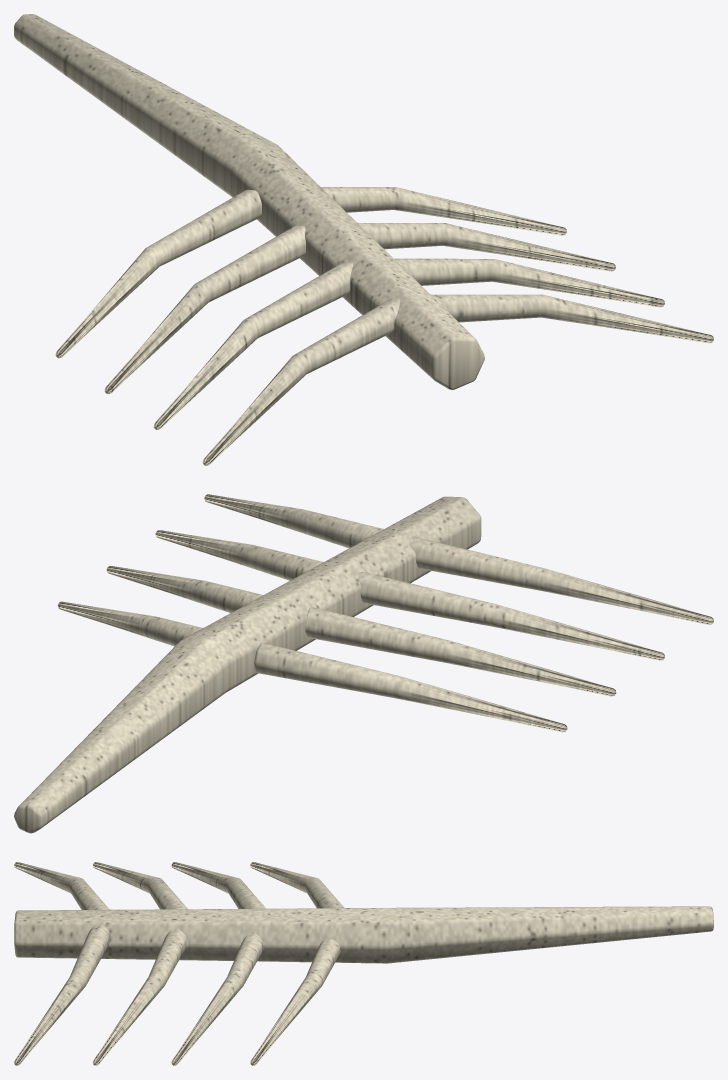
File: food-11-residue.glb
3 views of the same model, one above another, from view 1: azimuth 30°, elevation 25°; view 2: azimuth 150°, elevation 25°; view 3: azimuth 270°, elevation 25° (orthographic). The views are drawn at different scales.
Visible parts, largest first — view 1: Food; view 2: Food; view 3: Food.
Boxes of the visible parts, x1,y1,x2,y2 form: Food: (14,14,713,465); Food: (14,494,713,833); Food: (14,862,713,1065).
Size of the model in its own units: 0.4207 by 0.0671 by 0.6224.
1 material, 1 textured.
